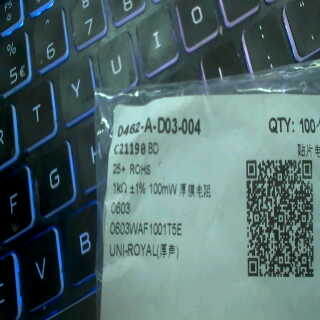1kR: (111, 178, 128, 197)
